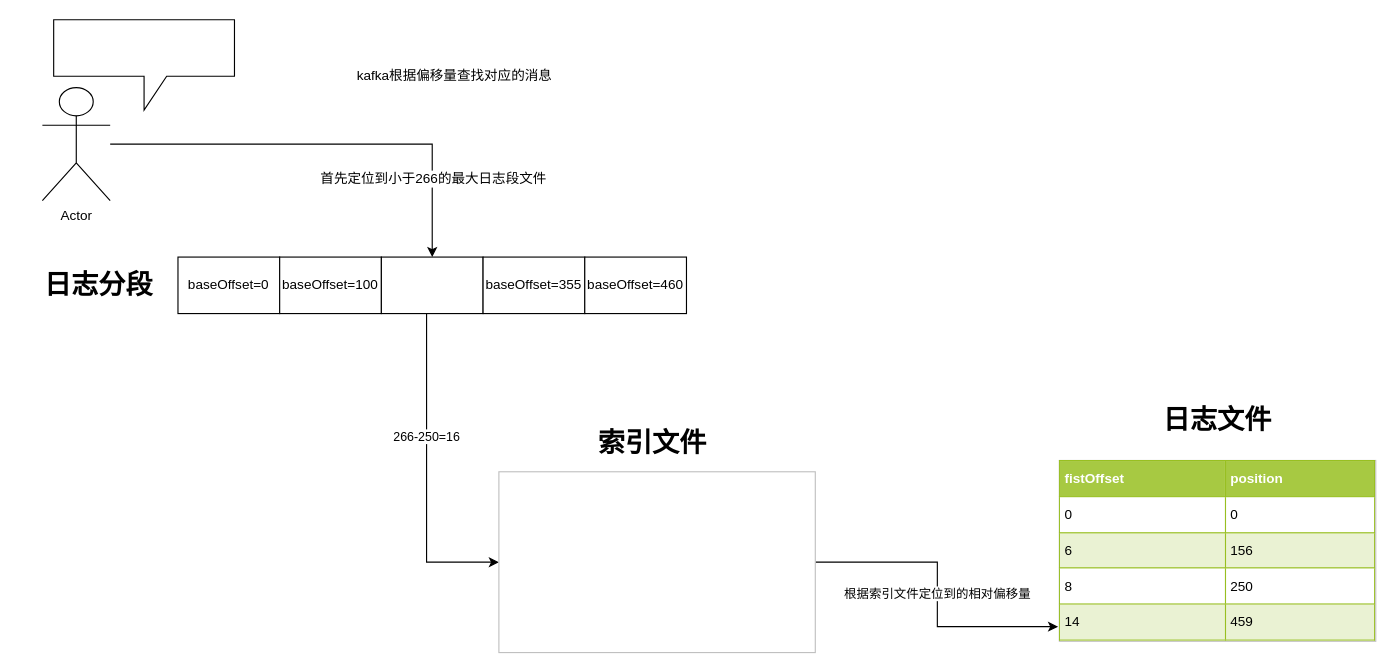
The diagram is 1396 pixels wide and 672 high, and some of its shapes have lost their labels. The shapes that lost their labels are listed below. From the top down, each one's centre as x and y in pixels, then its label:
pixel 143 64: 查找offset为266的消息
pixel 431 285: baseOffset=250
pixel 656 562: 相对偏移量[relativeOffset] 物理地址[position] 6 156 14 459 22 656 26 838
